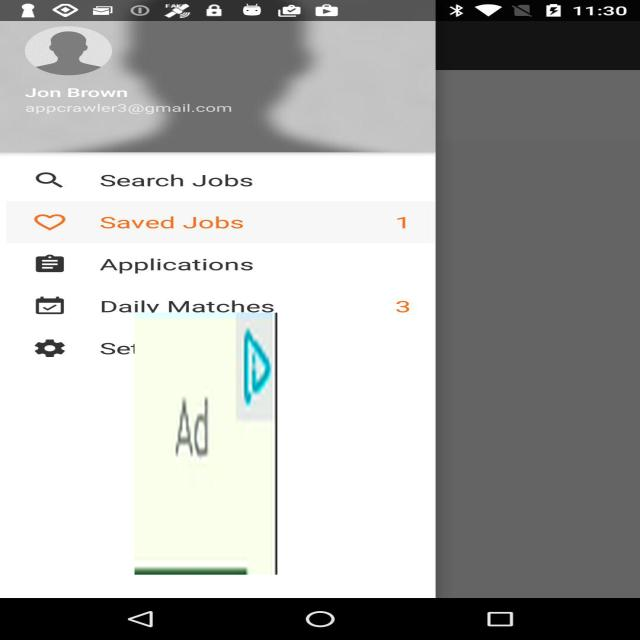sneaking: (134, 312, 278, 574)
